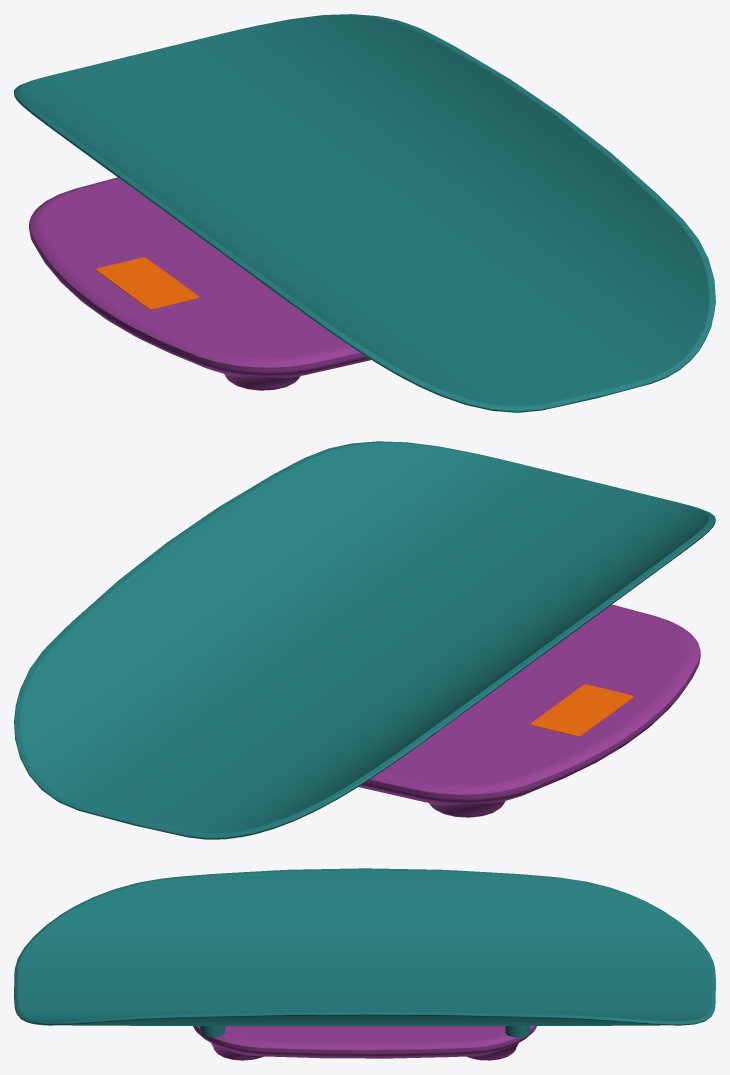
The picture shows the model from 3 angles, top to bottom: view 1: azimuth 30°, elevation 25°; view 2: azimuth 150°, elevation 25°; view 3: azimuth 270°, elevation 25°; orthographic projection. The views are drawn at different scales.
Parts seen in each view (by area): view 1: 529; view 2: 529; view 3: 529.
Boxes of the visible parts, bbox=[...] form: 529: bbox=[14, 14, 715, 412]; 529: bbox=[14, 441, 715, 839]; 529: bbox=[14, 868, 715, 1060].
Bounding box in the file's own units: 32.32 × 7 × 55.22.
